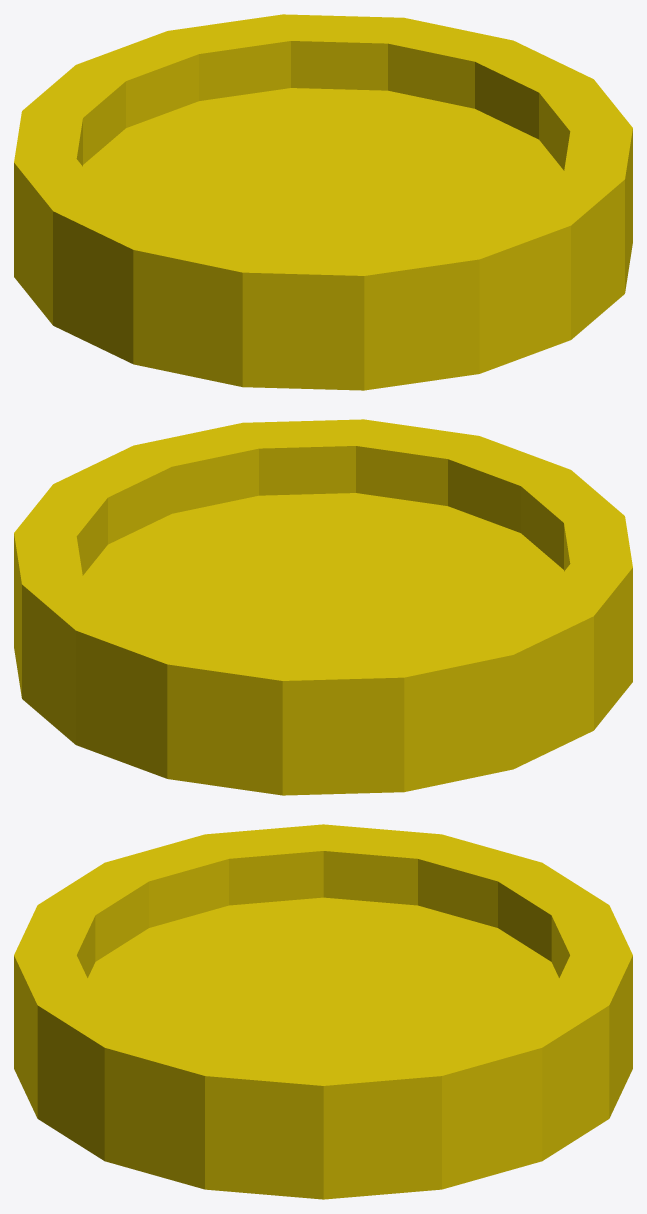
Rendered from Gold.fbx.
3 views of the same model, one above another, from view 1: azimuth 30°, elevation 25°; view 2: azimuth 150°, elevation 25°; view 3: azimuth 270°, elevation 25° (orthographic).
Visible parts, largest first — view 1: Gold; view 2: Gold; view 3: Gold.
Part boxes in pixels (x1,y1,x2,y2): Gold: [14, 14, 632, 390]; Gold: [14, 419, 632, 795]; Gold: [14, 824, 632, 1199].
Size of the model in its own units: 25.43 by 5.15 by 25.43.
